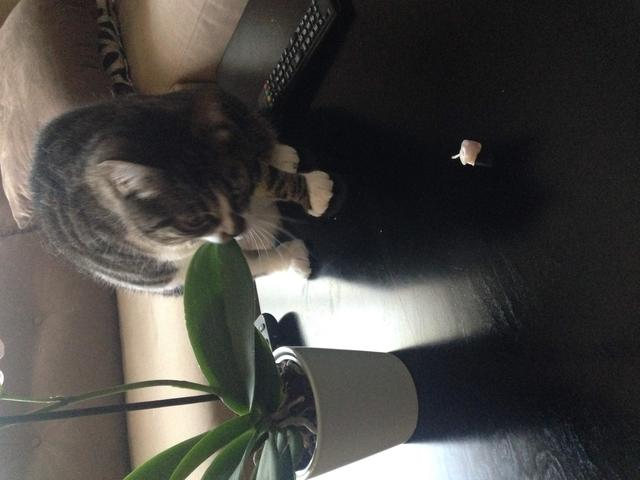playdoh: (28, 89, 336, 297)
